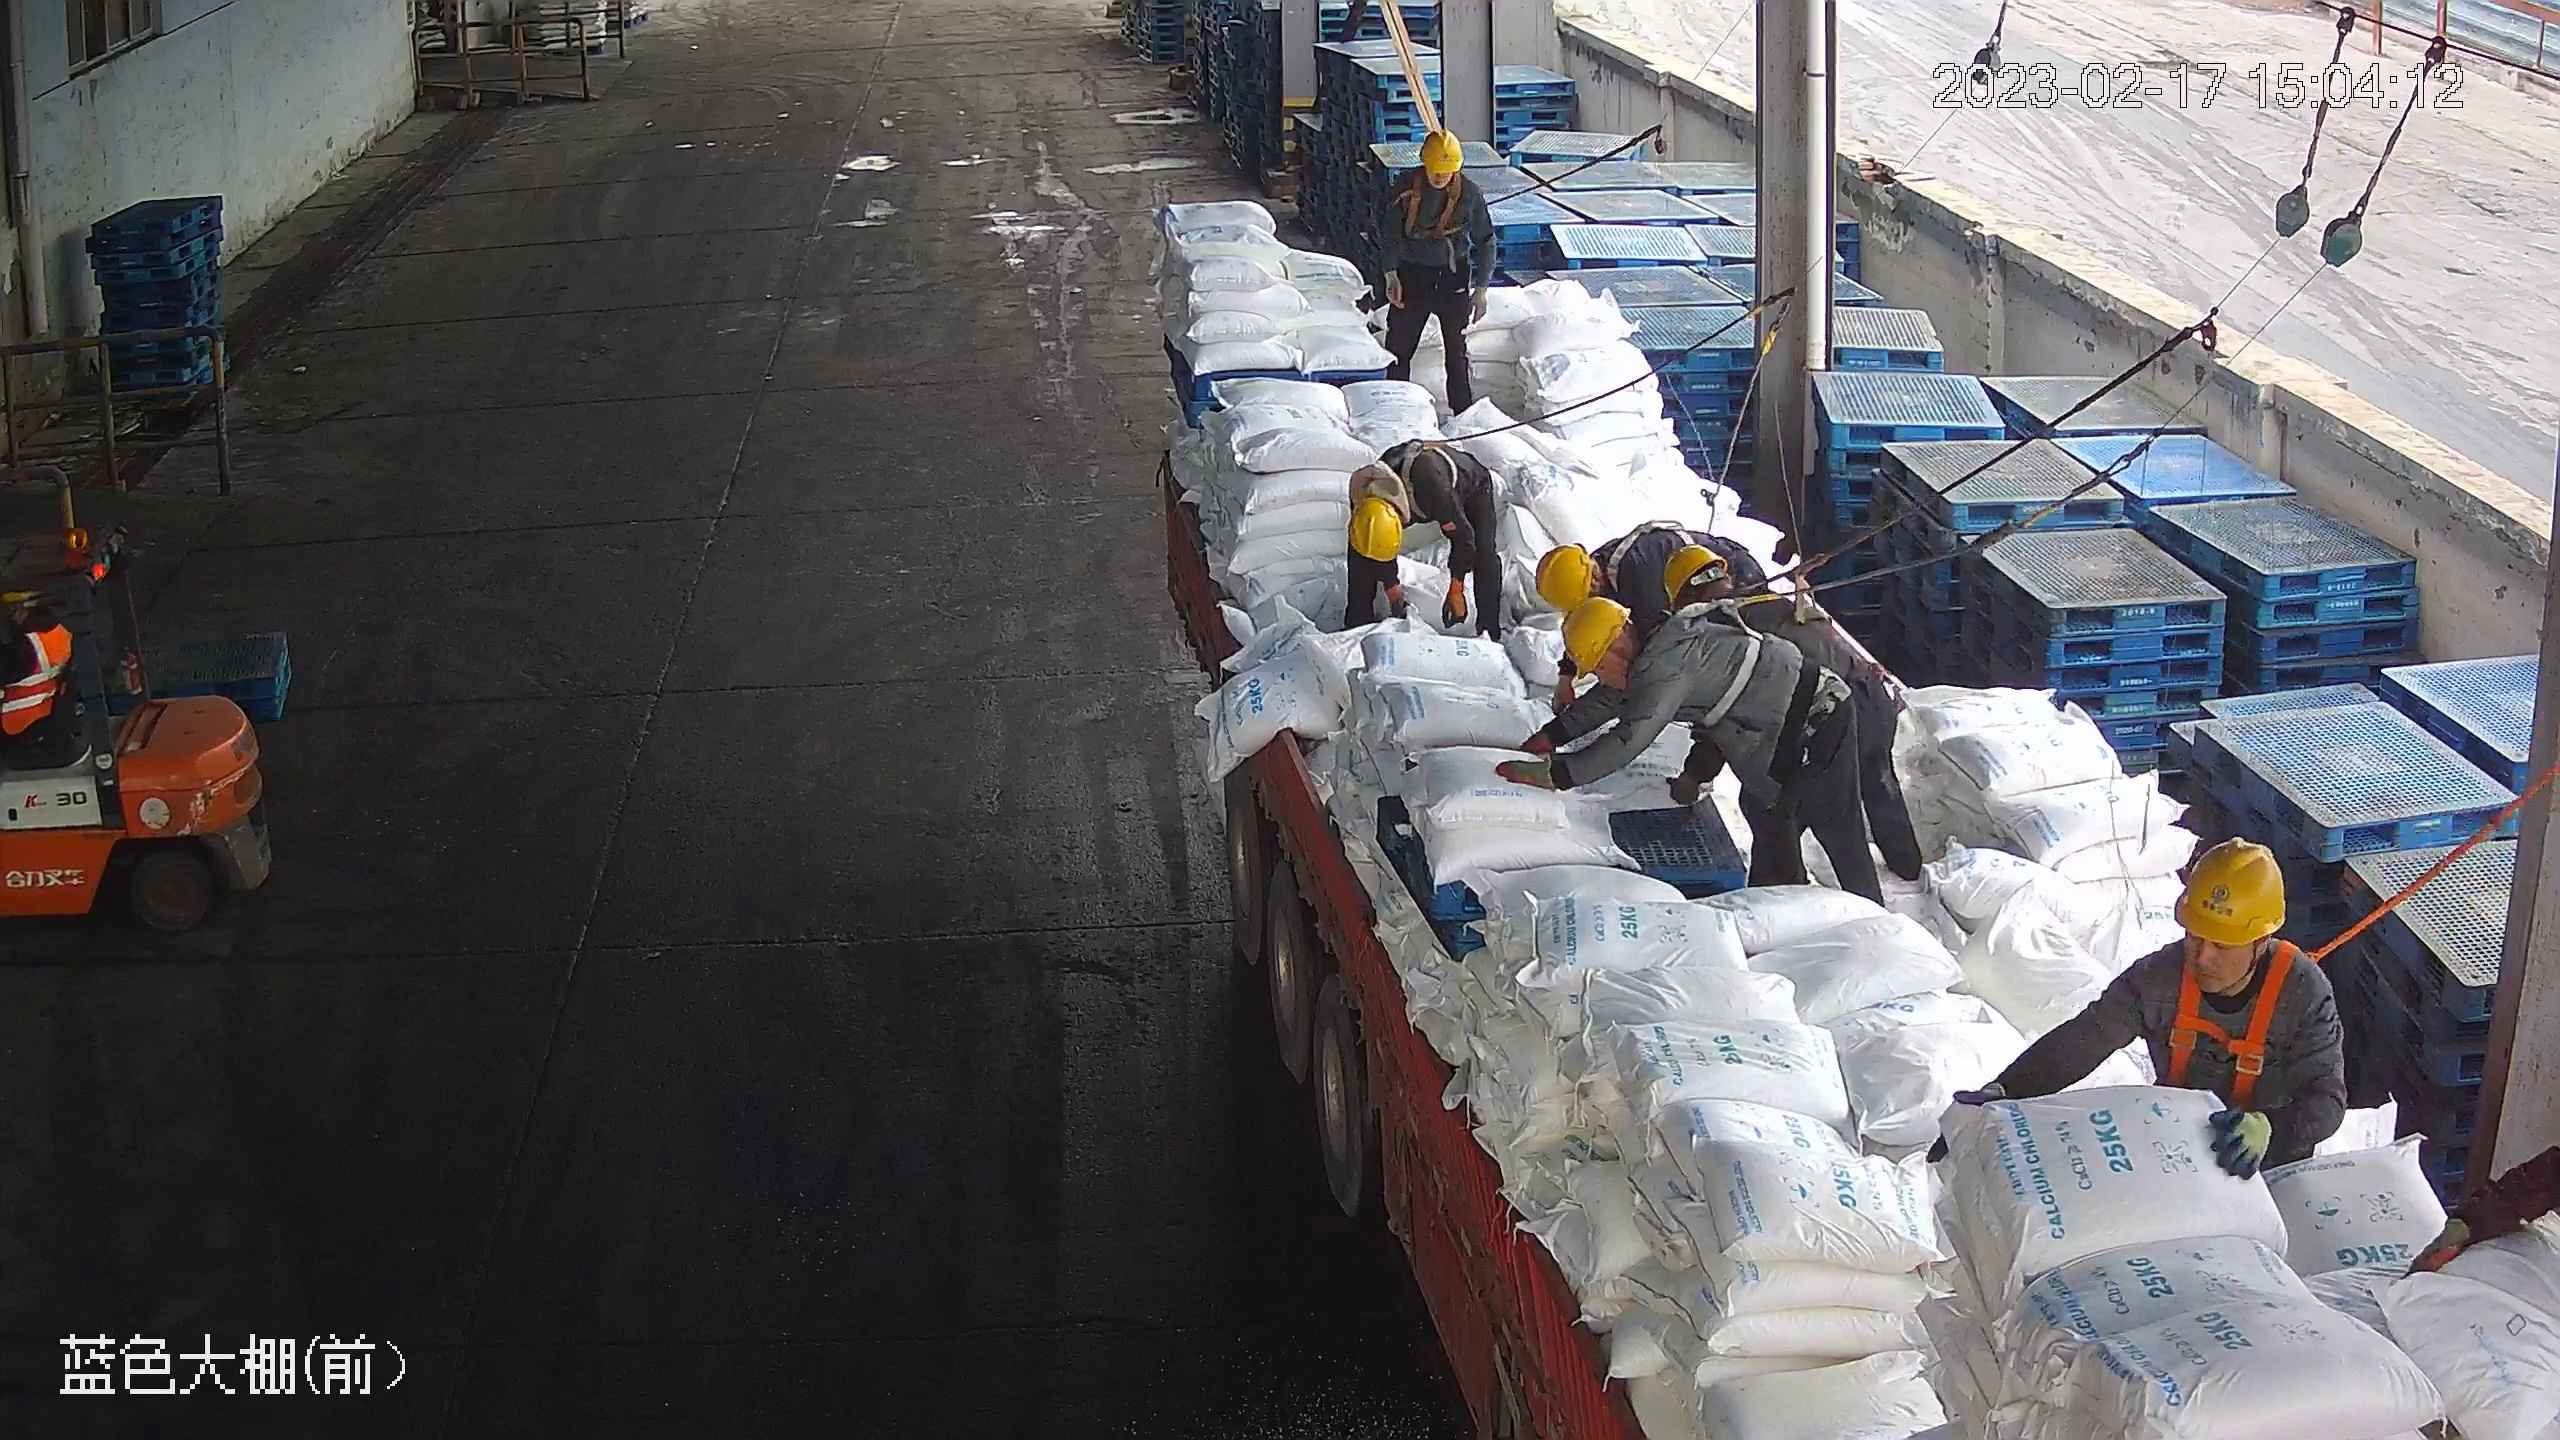belt: (2148, 933, 2323, 1106), (1678, 590, 1815, 727), (1376, 425, 1468, 521), (1590, 510, 1692, 594), (1744, 561, 1838, 633), (1404, 171, 1473, 239)
head: (2108, 834, 2337, 1050), (1546, 580, 1722, 707), (1645, 544, 1779, 670), (1531, 523, 1673, 624), (1391, 126, 1485, 211)
helmet: (2174, 834, 2286, 945), (1558, 595, 1628, 676), (1660, 536, 1725, 606), (1537, 541, 1594, 613), (1347, 489, 1405, 560), (1416, 124, 1464, 172)
people: (1478, 561, 1927, 908), (1339, 434, 1513, 652), (1369, 123, 1494, 422), (1, 559, 68, 763)
truck: (1148, 114, 2537, 1440)
